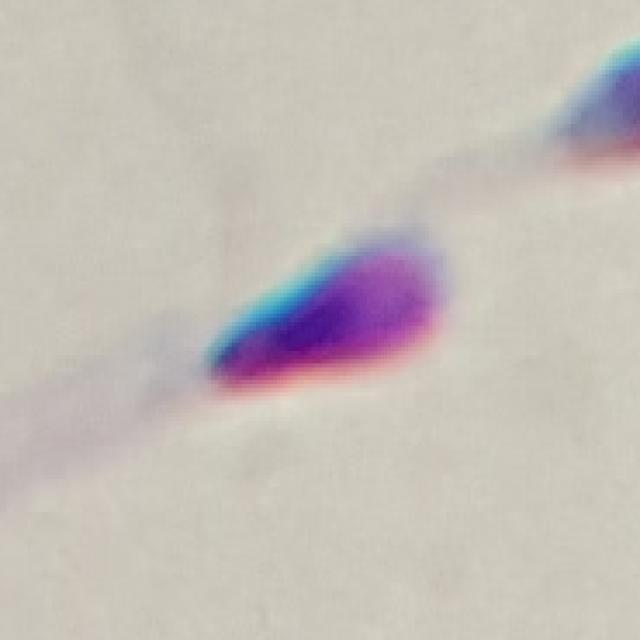abnormal sperm: (90, 199, 487, 470)
